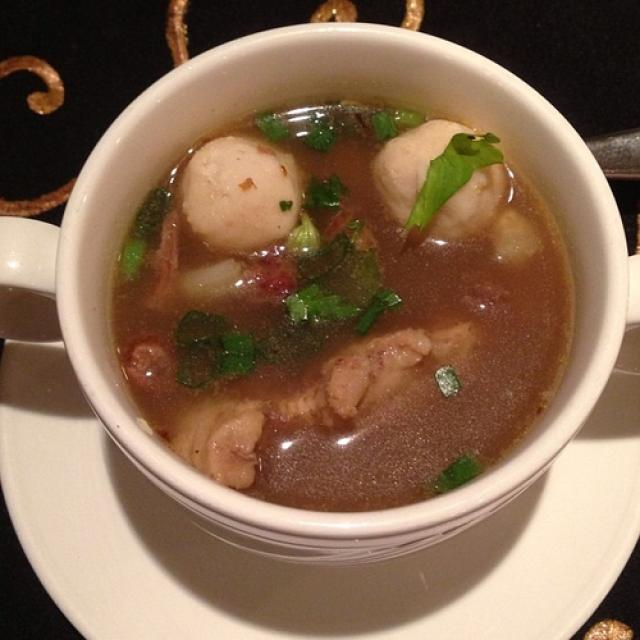汤锅炖物: (73, 45, 599, 540)
